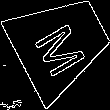M_NE: (30, 11, 92, 76)
